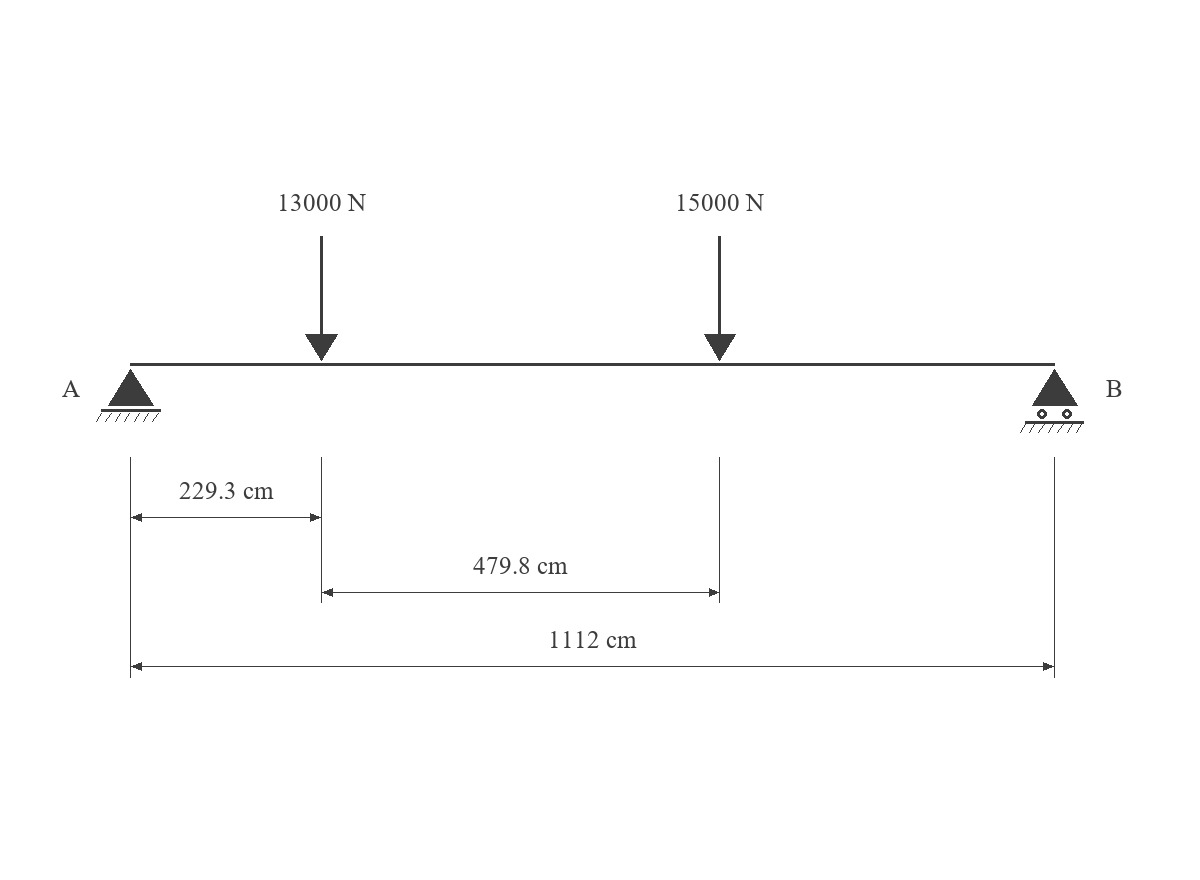pin_support: (96, 369, 161, 422)
point_load: (305, 236, 338, 361), (704, 236, 736, 361)
roller_support: (1020, 369, 1084, 433)
